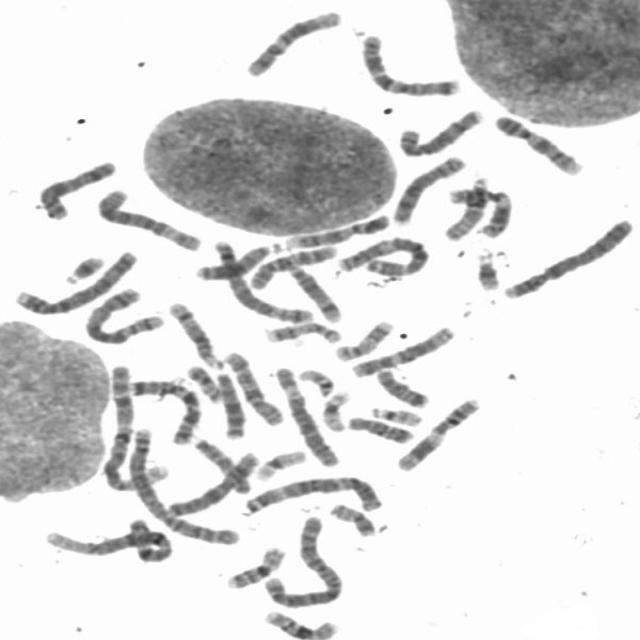A1: (98, 358, 170, 494), (41, 521, 176, 564)
A2: (123, 424, 243, 547), (259, 511, 346, 609)
A3: (237, 470, 387, 516), (332, 232, 433, 278)
B4: (498, 214, 637, 302), (9, 246, 140, 317)
B5: (210, 236, 316, 325), (79, 283, 168, 346)
C10: (219, 347, 286, 427), (246, 240, 342, 291)
C11: (390, 393, 484, 474), (444, 182, 515, 238)
C12: (240, 5, 345, 79), (346, 322, 458, 378)
C6: (92, 184, 205, 252), (270, 363, 341, 469)
C7: (354, 30, 464, 99), (122, 374, 205, 446)
C8: (388, 152, 470, 226), (393, 104, 488, 159)
C9: (488, 109, 584, 177), (282, 210, 393, 250)
D13: (191, 238, 286, 282), (210, 368, 248, 441)
D14: (163, 297, 227, 371), (282, 261, 344, 324)
D15: (185, 432, 254, 495), (439, 174, 492, 242)
E16: (222, 542, 289, 590), (258, 607, 341, 639)
E17: (331, 316, 396, 362), (262, 318, 344, 346)
E18: (371, 364, 433, 409), (342, 412, 417, 446)
F19: (251, 445, 309, 482), (317, 386, 354, 432)
F20: (323, 498, 379, 538), (181, 361, 224, 404)
G21: (58, 250, 109, 285), (470, 246, 502, 292)
G22: (366, 402, 424, 428), (293, 365, 336, 398)
X: (162, 448, 260, 519), (32, 156, 118, 222)
